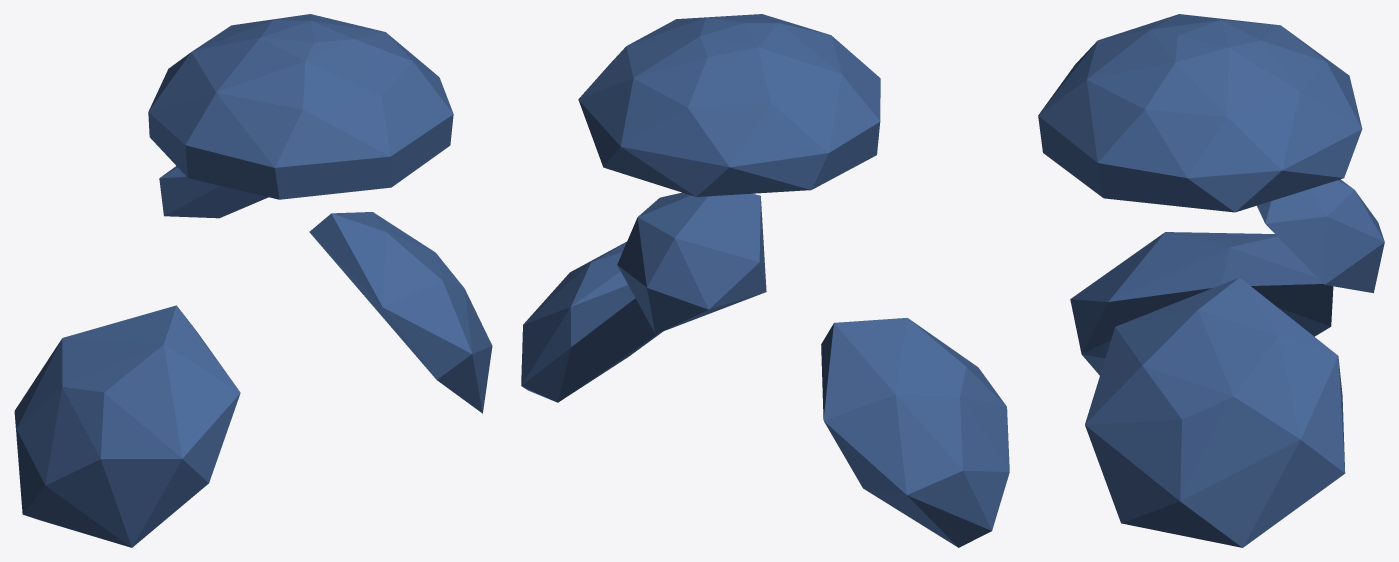
The model's file is tree-winter-leaves-002.glb.
The picture shows the model from 3 angles, left to right: view 1: azimuth 30°, elevation 25°; view 2: azimuth 150°, elevation 25°; view 3: azimuth 270°, elevation 25°; orthographic projection. The views are drawn at different scales.
Visible parts, largest first — view 1: Circle.043_121; view 2: Circle.043_121; view 3: Circle.043_121.
Part boxes in pixels (box(x1,y1,x2,y2)): Circle.043_121: box(14, 14, 492, 547); Circle.043_121: box(521, 14, 1009, 547); Circle.043_121: box(1038, 14, 1384, 547).
Bounding box in the file's own units: 1 × 0.9296 × 0.6198.
